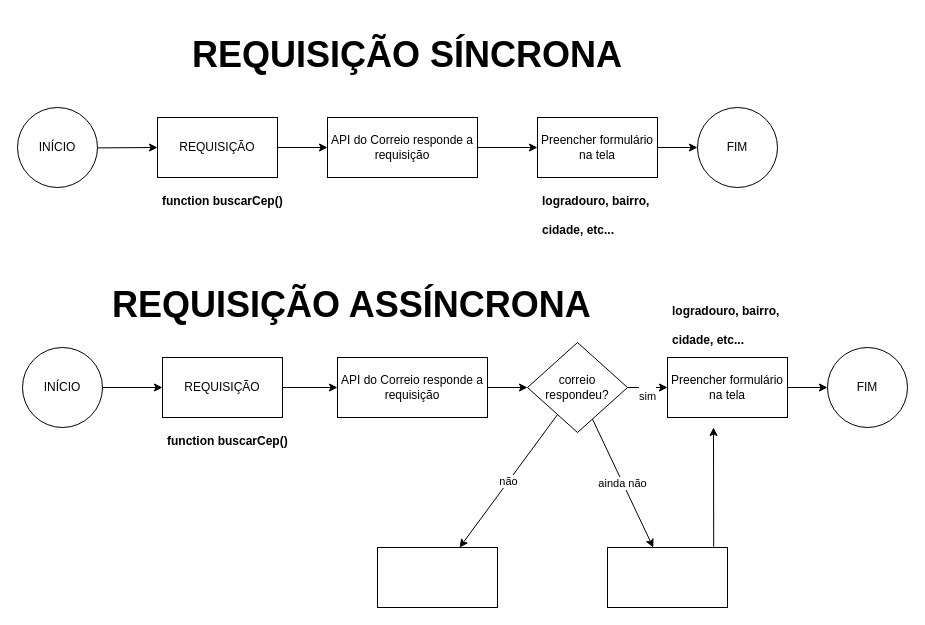
The diagram is 925 pixels wide and 625 high, and some of its shapes have lost their labels. Here are the shapes that lost their labels. From the top down, the centre of each, then its label:
pixel 437 577: Retonar erro
pixel 667 577: AGUARDAR / REFAZER A REQUEST
